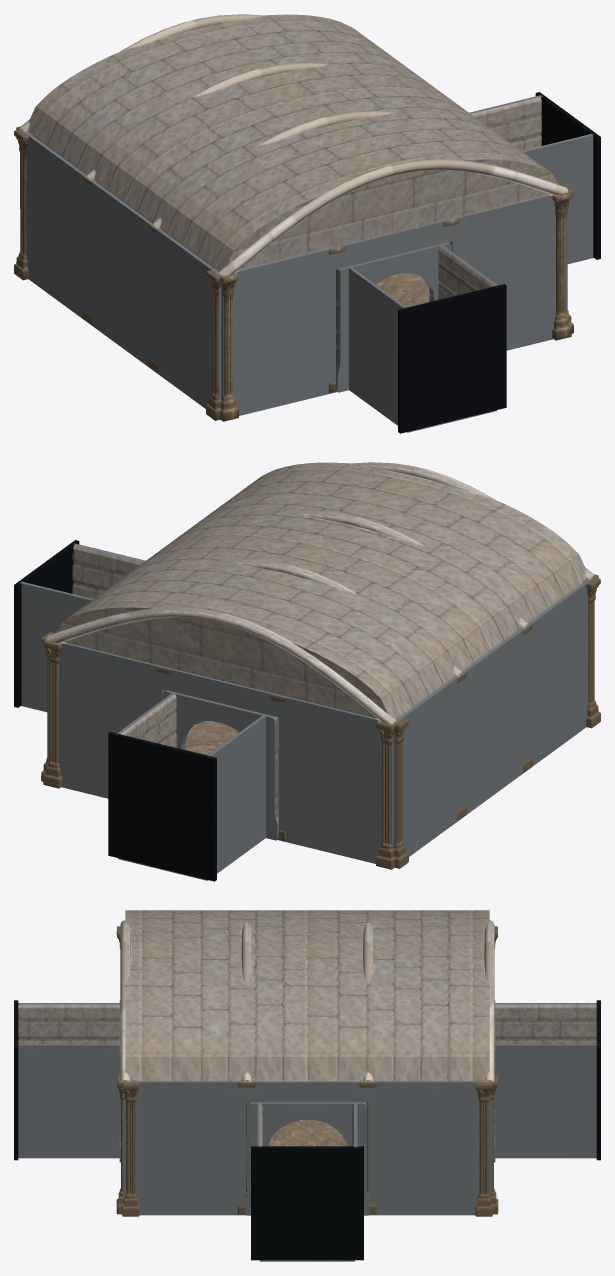
Rendered from room.glb.
The picture shows the model from 3 angles, top to bottom: view 1: azimuth 30°, elevation 25°; view 2: azimuth 150°, elevation 25°; view 3: azimuth 270°, elevation 25°; orthographic projection. The views are drawn at different scales.
Parts seen in each view (by area): view 1: TELLER-EAST; view 2: TELLER-EAST; view 3: TELLER-EAST.
Part boxes in pixels (x1=…): TELLER-EAST: x1=14, y1=14, x2=600, y2=433; TELLER-EAST: x1=14, y1=462, x2=600, y2=881; TELLER-EAST: x1=14, y1=910, x2=600, y2=1261.
Bounding box in the file's own units: 13.3 × 5.95 × 16.12.
1 material, 1 textured.
